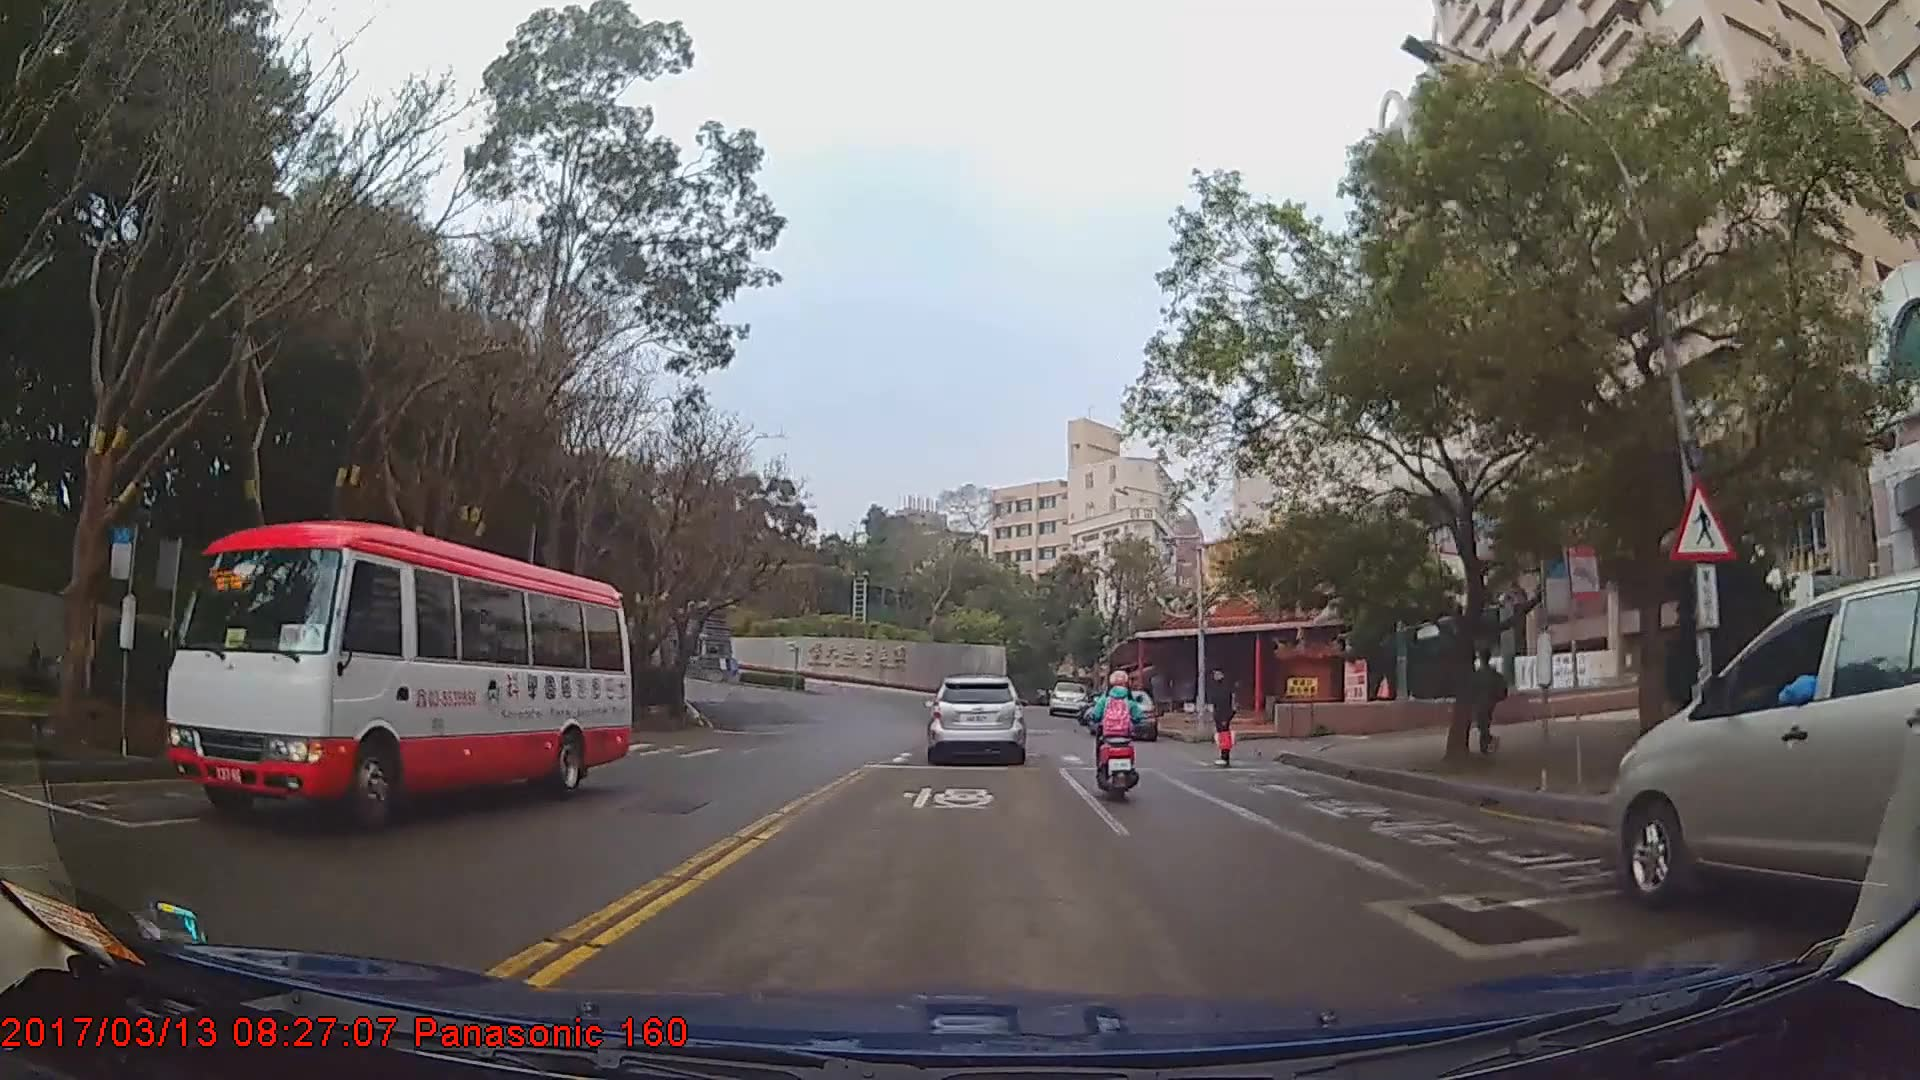pedestrian: (1467, 646, 1507, 752), (1209, 664, 1242, 767)
rider: (1085, 668, 1144, 800)
vehicle: (165, 520, 635, 833), (1612, 569, 1920, 935), (924, 672, 1027, 761), (1048, 680, 1085, 715)
